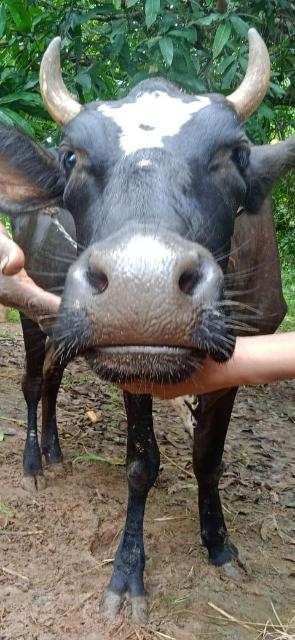Muzzle: (82, 242, 206, 350)
